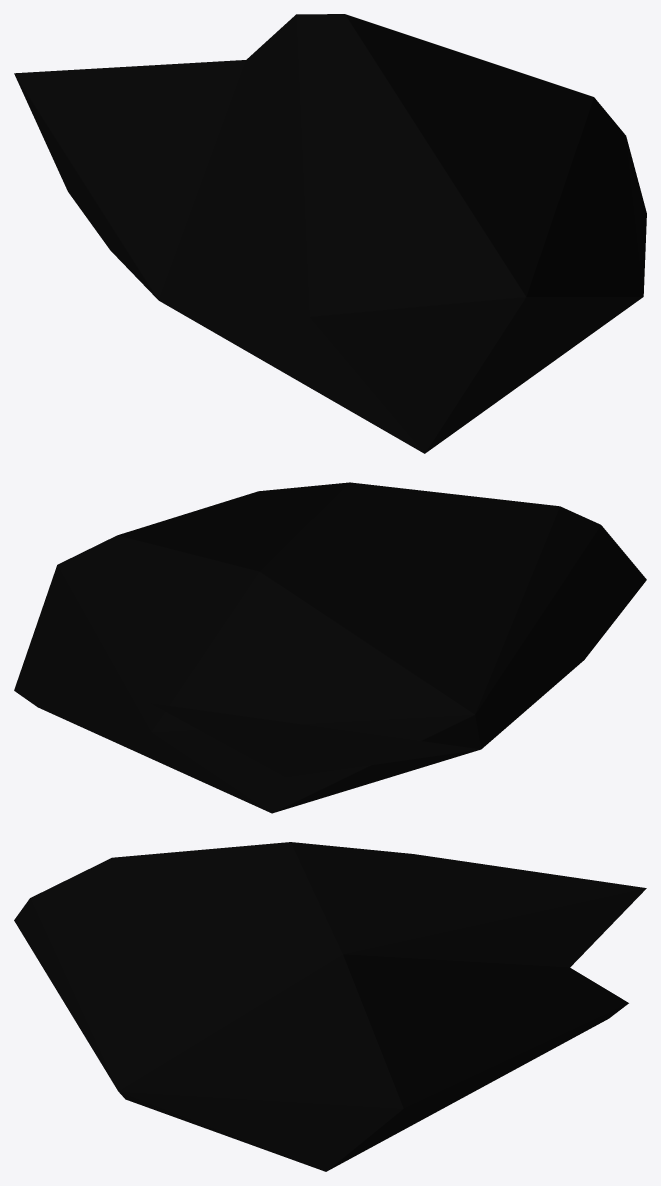
3 renders of one model, top to bottom at view 1: azimuth 30°, elevation 25°; view 2: azimuth 150°, elevation 25°; view 3: azimuth 270°, elevation 25°, orthographic. The views are drawn at different scales.
Bounding box in the file's own units: 0.1321 × 0.0445 × 0.1608.
Materials: 1 (1 with a texture image).
